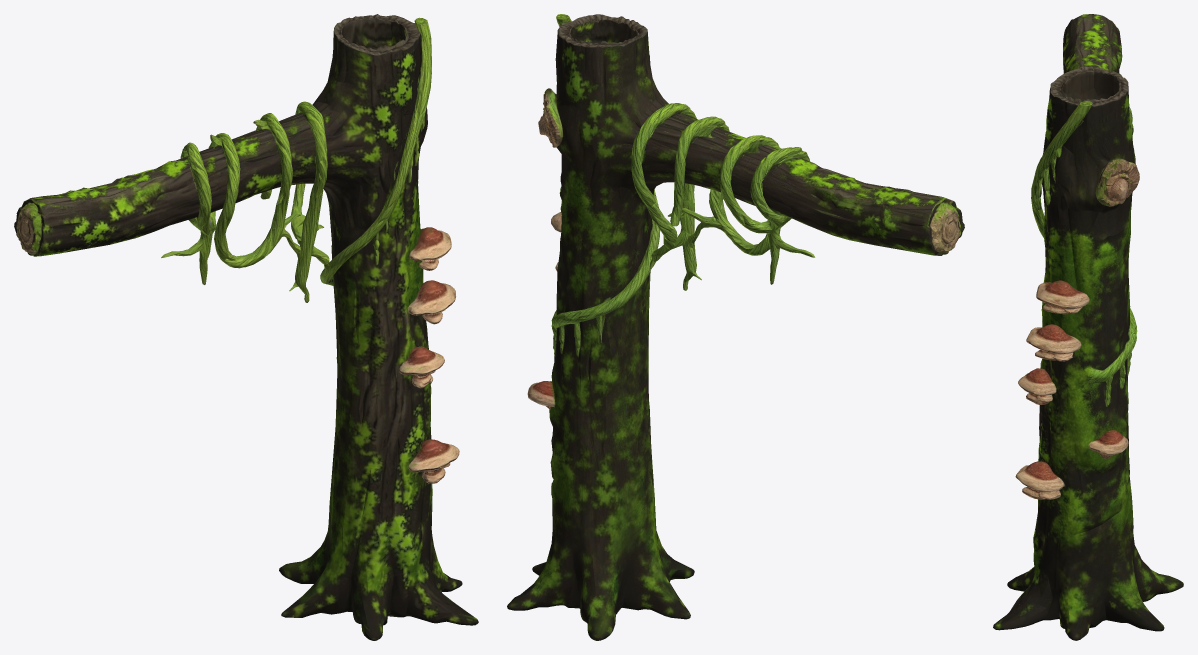
File: VineTree.fbx
3 views of the same model, side by side, from view 1: azimuth 30°, elevation 25°; view 2: azimuth 150°, elevation 25°; view 3: azimuth 270°, elevation 25° (orthographic). The views are drawn at different scales.
Parts seen in each view (by area): view 1: VineTree; view 2: VineTree; view 3: VineTree.
Boxes of the visible parts, left/top/right/bottom form: VineTree: left=14, top=14, right=478, bottom=640; VineTree: left=507, top=14, right=964, bottom=640; VineTree: left=993, top=14, right=1183, bottom=640.
Bounding box in the file's own units: 1.58 × 2 × 0.6592.
1 material, 1 textured.
